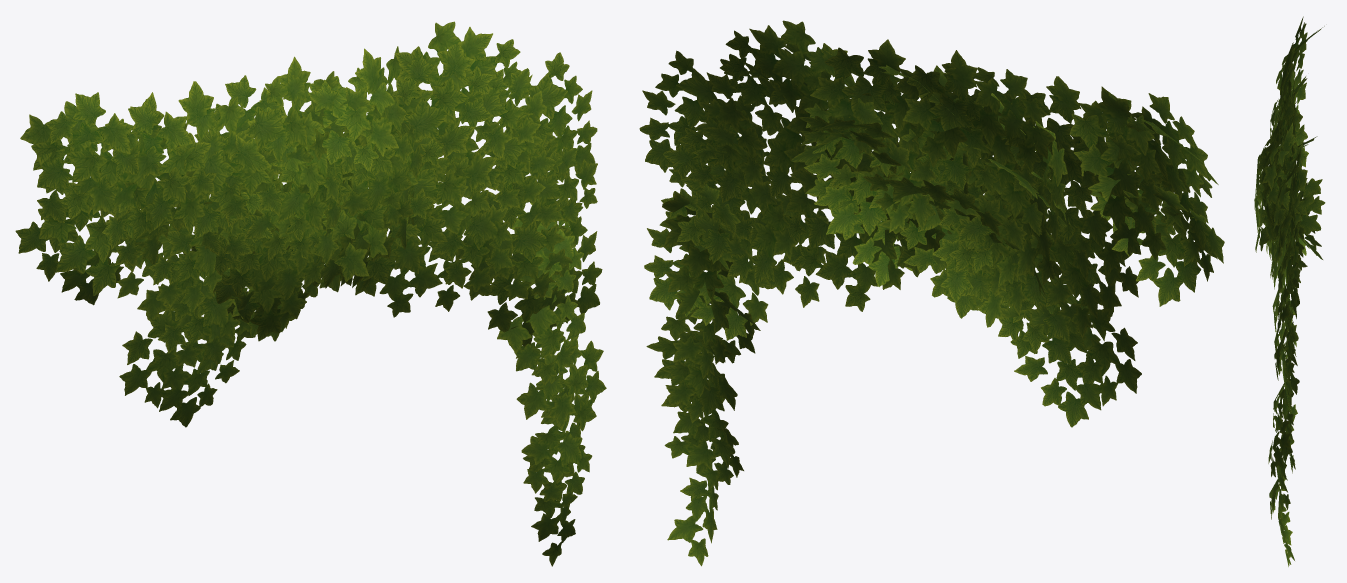
The model's file is SM_fwOF_IvyGroup_07.fbx.
3 views of the same model, side by side, from view 1: azimuth 30°, elevation 25°; view 2: azimuth 150°, elevation 25°; view 3: azimuth 270°, elevation 25° (orthographic). The views are drawn at different scales.
Parts seen in each view (by area): view 1: SM_fwOF_IvyGroup_07_LOD0; view 2: SM_fwOF_IvyGroup_07_LOD0; view 3: SM_fwOF_IvyGroup_07_LOD0.
Part boxes in pixels (x1=…): SM_fwOF_IvyGroup_07_LOD0: x1=15, y1=21, x2=606, y2=566; SM_fwOF_IvyGroup_07_LOD0: x1=639, y1=20, x2=1224, y2=566; SM_fwOF_IvyGroup_07_LOD0: x1=1254, y1=16, x2=1325, y2=566.
Size of what is drawn, in the model's own units: 3.04 by 2.92 by 0.5231.
